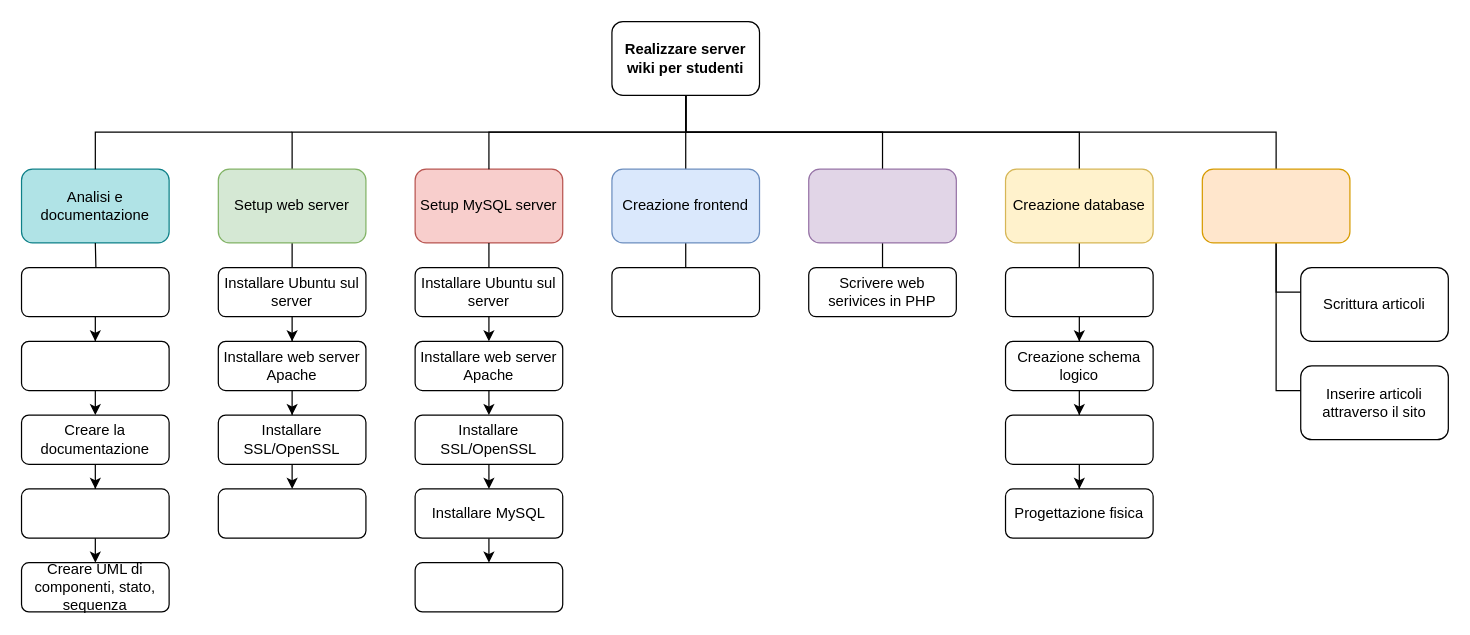
This 1470x635 diagram has some shape labels left out. The centre of each missing label's shape, as x and y in pixels:
"Analisi della richiesta" belongs at [94,291].
"Creare applicazione lato client (HTML/JS/CSS)" belongs at [685,291].
"Creare l'UML di casi d'uso" belongs at [94,365].
"Creare wireframes e storyboard" belongs at [94,513].
"Creazione backend" belongs at [881,205].
"Creazione E/R" belongs at [1078,291].
"Creazione schema database" belongs at [1078,439].
"Gestione articoli" belongs at [1275,205].
"Installare client RADIUS" belongs at [291,513].
"Installare server RADIUS" belongs at [488,586].
